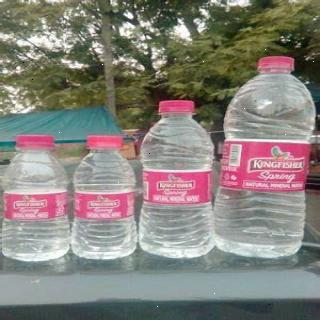Plastic-bottle: (216, 41, 320, 271), (130, 93, 216, 275), (1, 125, 77, 266), (64, 129, 142, 265)
